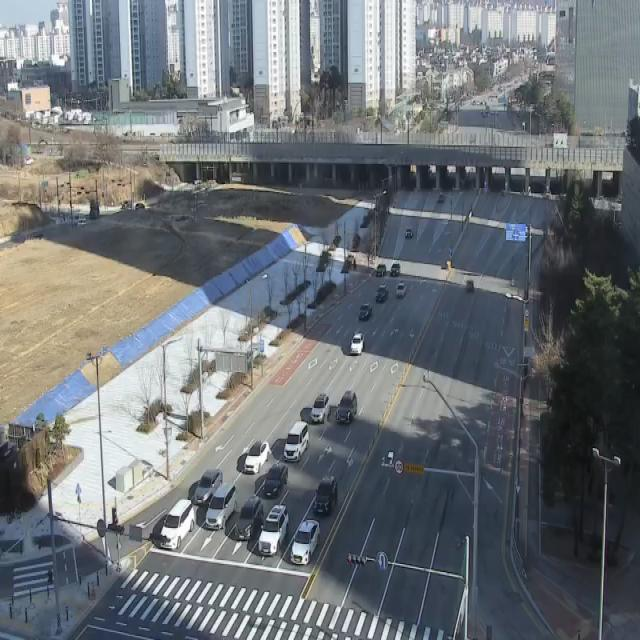Car: (160, 499, 194, 550), (205, 484, 237, 530), (259, 506, 289, 555), (291, 520, 320, 565), (235, 497, 264, 540), (195, 470, 223, 506), (314, 476, 338, 516), (284, 422, 308, 462), (262, 463, 288, 498), (243, 441, 270, 473), (337, 392, 358, 421), (311, 395, 330, 423), (351, 333, 365, 354), (359, 306, 374, 321), (376, 284, 388, 302), (396, 281, 407, 299), (390, 262, 401, 276), (376, 263, 385, 277)
